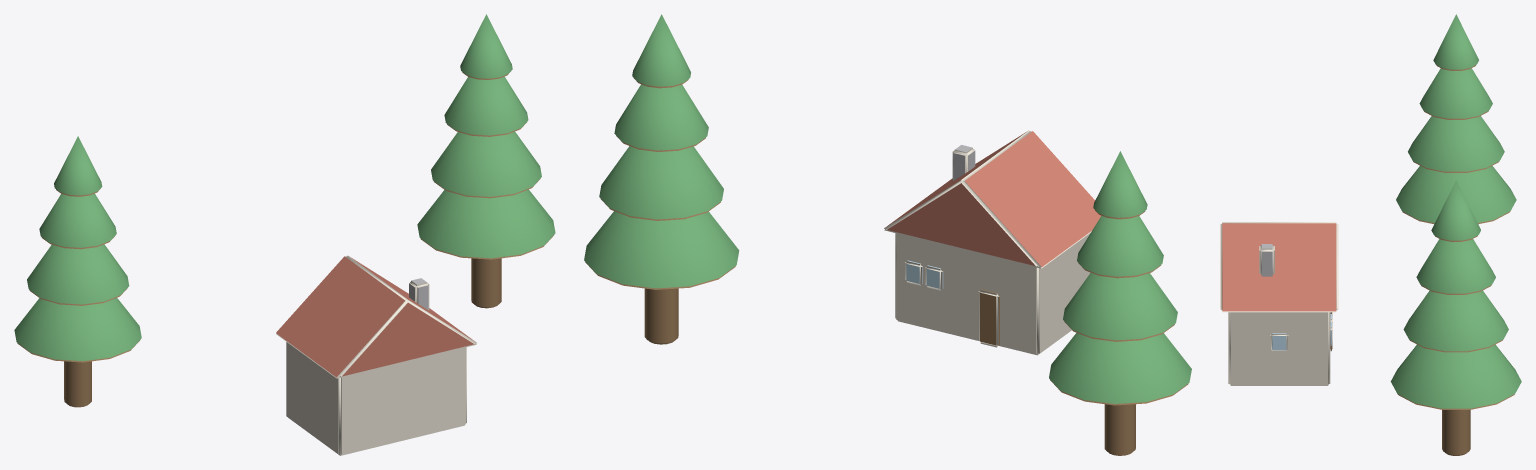
The model's file is ledger-report-cleanup-deepseekv4flash.glb.
3 views of the same model, side by side, from view 1: azimuth 30°, elevation 25°; view 2: azimuth 150°, elevation 25°; view 3: azimuth 270°, elevation 25° (orthographic). The views are drawn at different scales.
Parts seen in each view (by area): view 1: House, PineTree_R, PineTree_L; view 2: House, PineTree_R, PineTree_L; view 3: House, PineTree_R, PineTree_L.
Boxes of the visible parts, x1,y1,x2,y2 form: House: (276, 255, 476, 455); PineTree_R: (417, 14, 555, 308); PineTree_L: (14, 136, 141, 407); House: (884, 130, 1100, 355); PineTree_R: (584, 14, 739, 344); PineTree_L: (1049, 151, 1191, 455); House: (1220, 222, 1338, 385); PineTree_R: (1390, 180, 1521, 455); PineTree_L: (1396, 14, 1516, 224).
Bounding box in the file's own units: 12.78 × 6.76 × 6.82.
